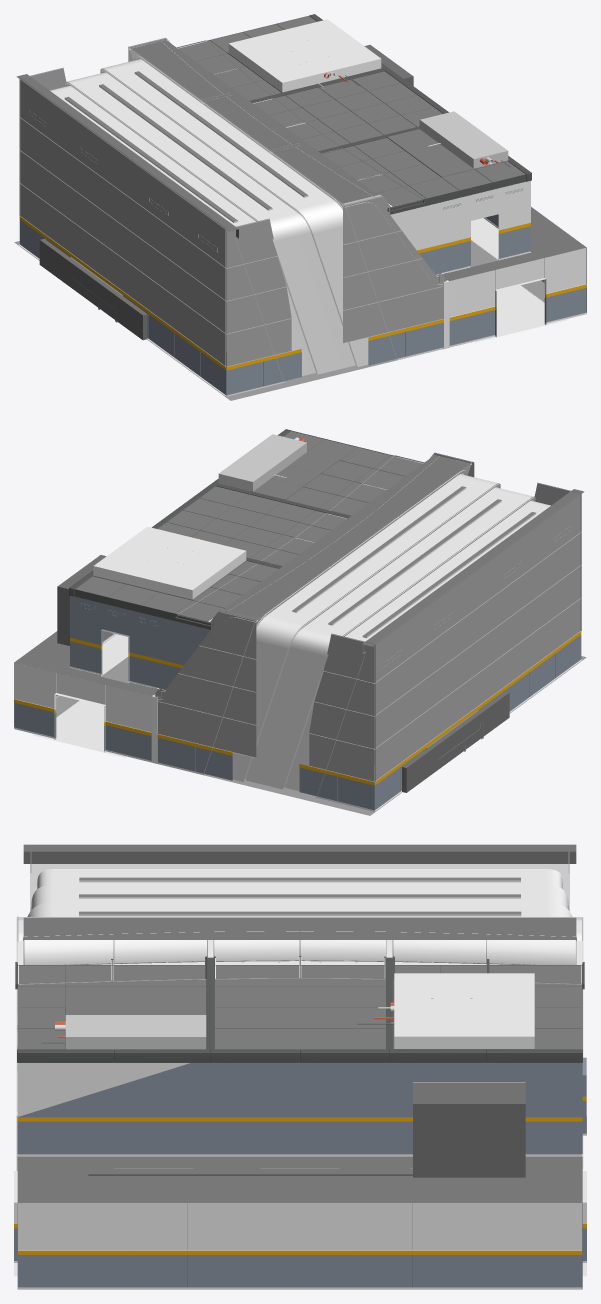
3 views of the same model, one above another, from view 1: azimuth 30°, elevation 25°; view 2: azimuth 150°, elevation 25°; view 3: azimuth 270°, elevation 25° (orthographic). The views are drawn at different scales.
Parts seen in each view (by area): view 1: SM_H_Building_FutureTech_CtControl_01_InterWall_14; view 2: SM_H_Building_FutureTech_CtControl_01_InterWall_14; view 3: SM_H_Building_FutureTech_CtControl_01_InterWall_14.
Boxes of the visible parts, box(x1,y1,x2,y2) form: SM_H_Building_FutureTech_CtControl_01_InterWall_14: box(14, 14, 586, 400); SM_H_Building_FutureTech_CtControl_01_InterWall_14: box(14, 429, 586, 815); SM_H_Building_FutureTech_CtControl_01_InterWall_14: box(14, 844, 586, 1289).
Bounding box in the file's own units: 794 × 755 × 335.
